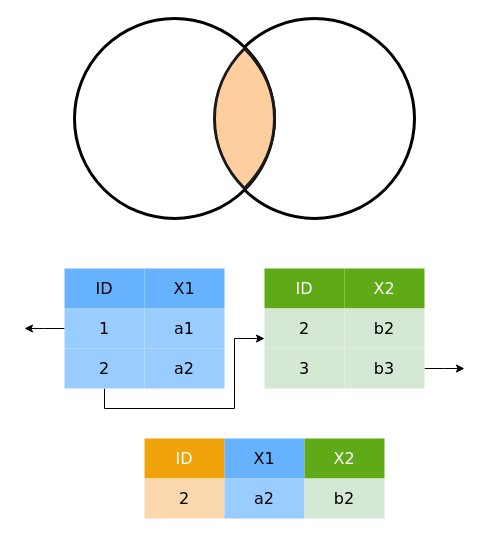
This 490x536 diagram has some shape labels left out. The box of each missing label's shape, as (x1, y1, x2, y2) in pixels:
left table: (72, 16, 276, 220)
right table: (212, 16, 416, 220)
